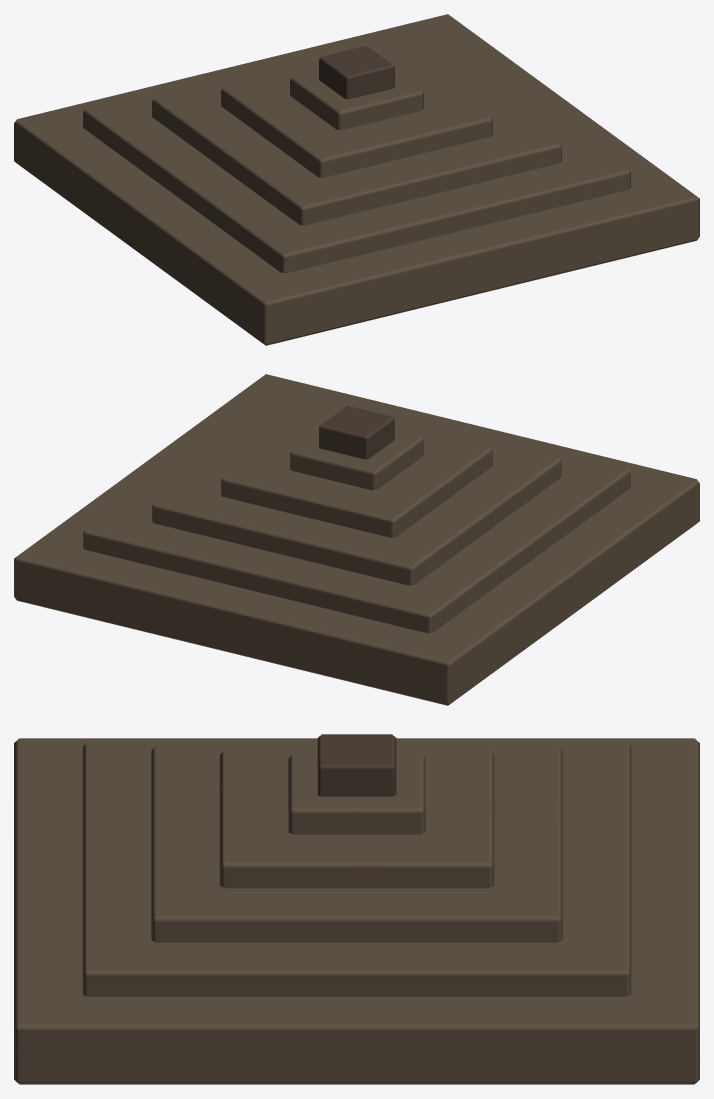
File: ghost-town-roof-hip.bce40d6e.glb
3 views of the same model, one above another, from view 1: azimuth 30°, elevation 25°; view 2: azimuth 150°, elevation 25°; view 3: azimuth 270°, elevation 25° (orthographic). The views are drawn at different scales.
Parts seen in each view (by area): view 1: body; view 2: body; view 3: body.
Boxes of the visible parts, x1,y1,x2,y2 form: body: [14, 14, 699, 345]; body: [14, 374, 699, 705]; body: [14, 734, 699, 1084].
Bounding box in the file's own units: 1.4 × 0.4335 × 1.4.
